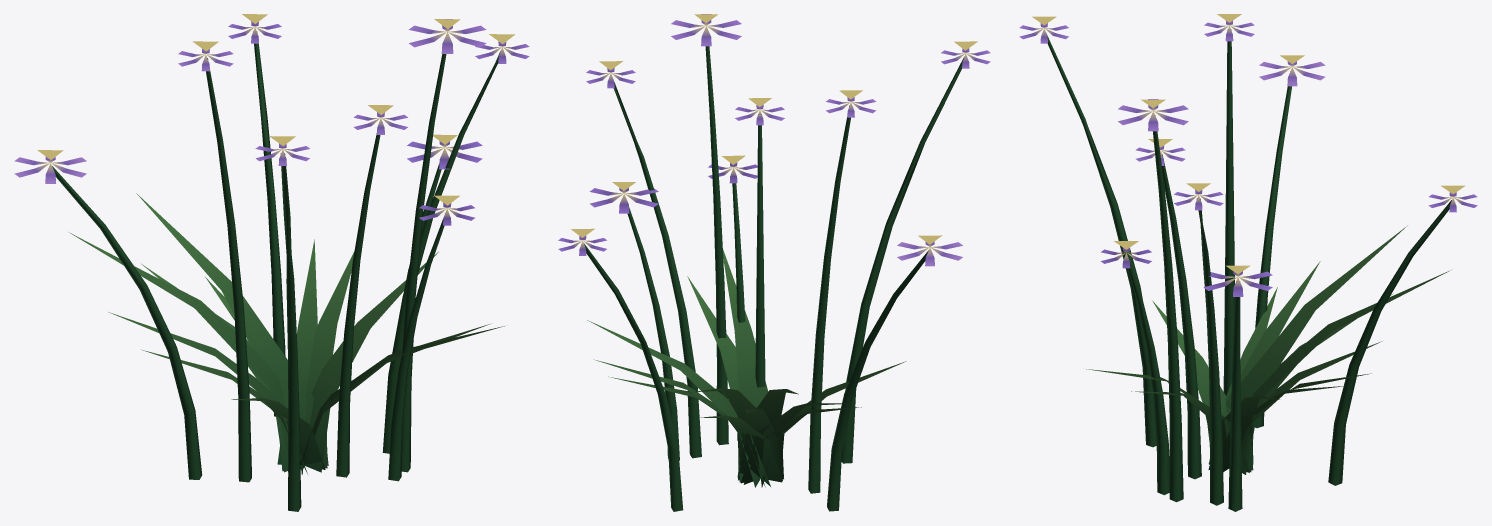
Rendered from flower_violet.glb.
The picture shows the model from 3 angles, left to right: view 1: azimuth 30°, elevation 25°; view 2: azimuth 150°, elevation 25°; view 3: azimuth 270°, elevation 25°; orthographic projection. The views are drawn at different scales.
Parts seen in each view (by area): view 1: flower_violet; view 2: flower_violet; view 3: flower_violet.
Part boxes in pixels (left/top/right/bottom): flower_violet: left=14, top=14, right=529, bottom=511; flower_violet: left=558, top=14, right=990, bottom=511; flower_violet: left=1019, top=14, right=1477, bottom=511.
Size of the model in its own units: 0.4144 by 0.3871 by 0.3917.
